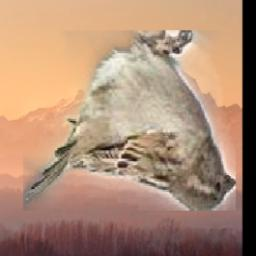Sparrow: (23, 31, 236, 212)
